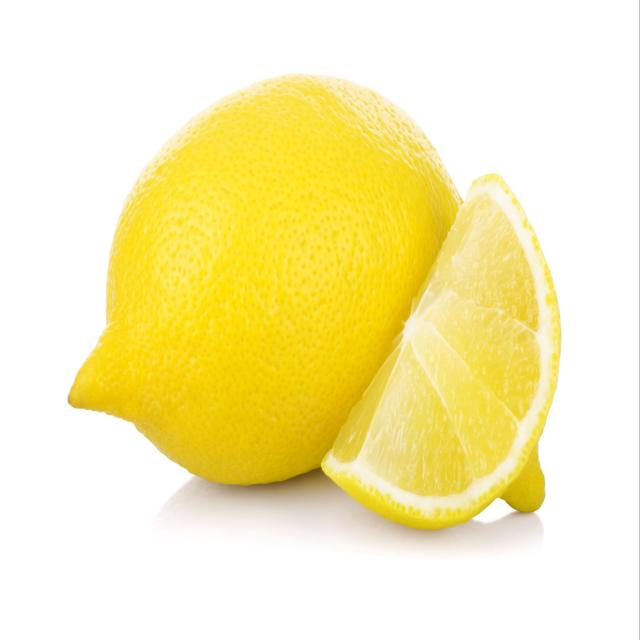lemon: (319, 168, 565, 540)
